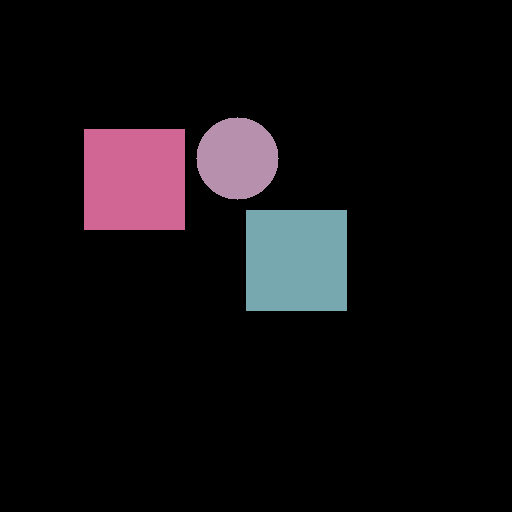circle: (196, 117, 278, 199)
square: (246, 210, 346, 310), (84, 129, 184, 229)
